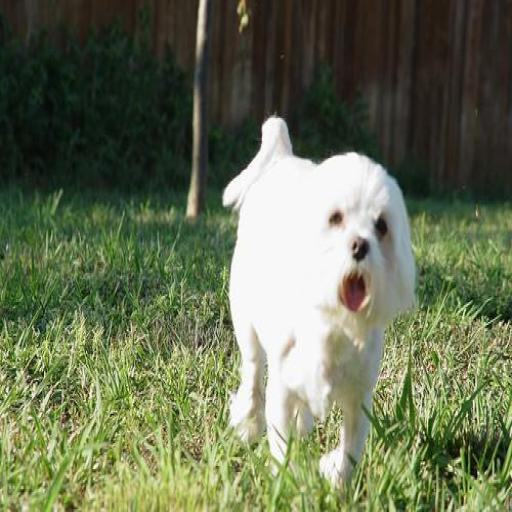dog_face: (311, 161, 408, 317)
